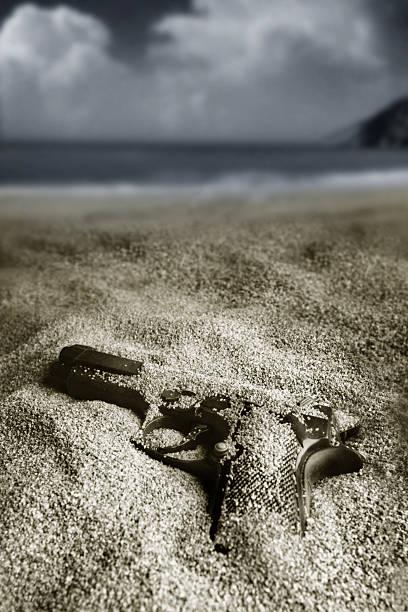weapon: (47, 335, 366, 560)
